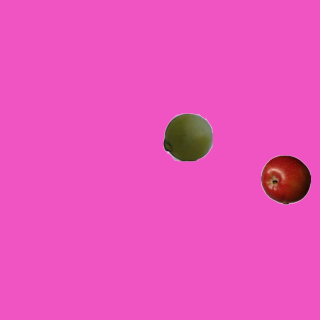Apple Braeburn: (260, 154, 310, 204)
Grape White 4: (162, 111, 212, 161)
